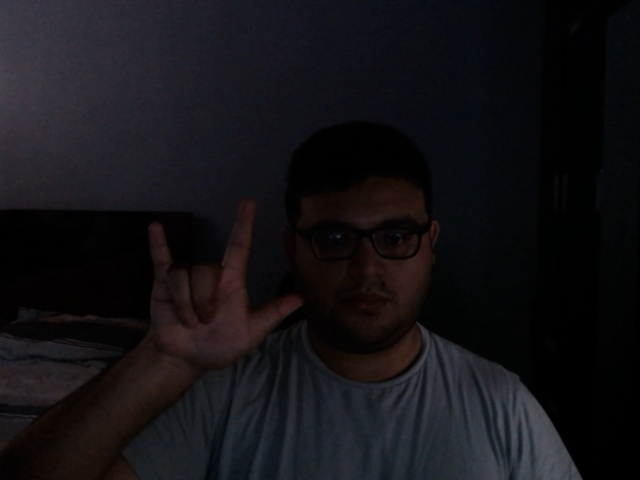I love you: (138, 197, 304, 375)
